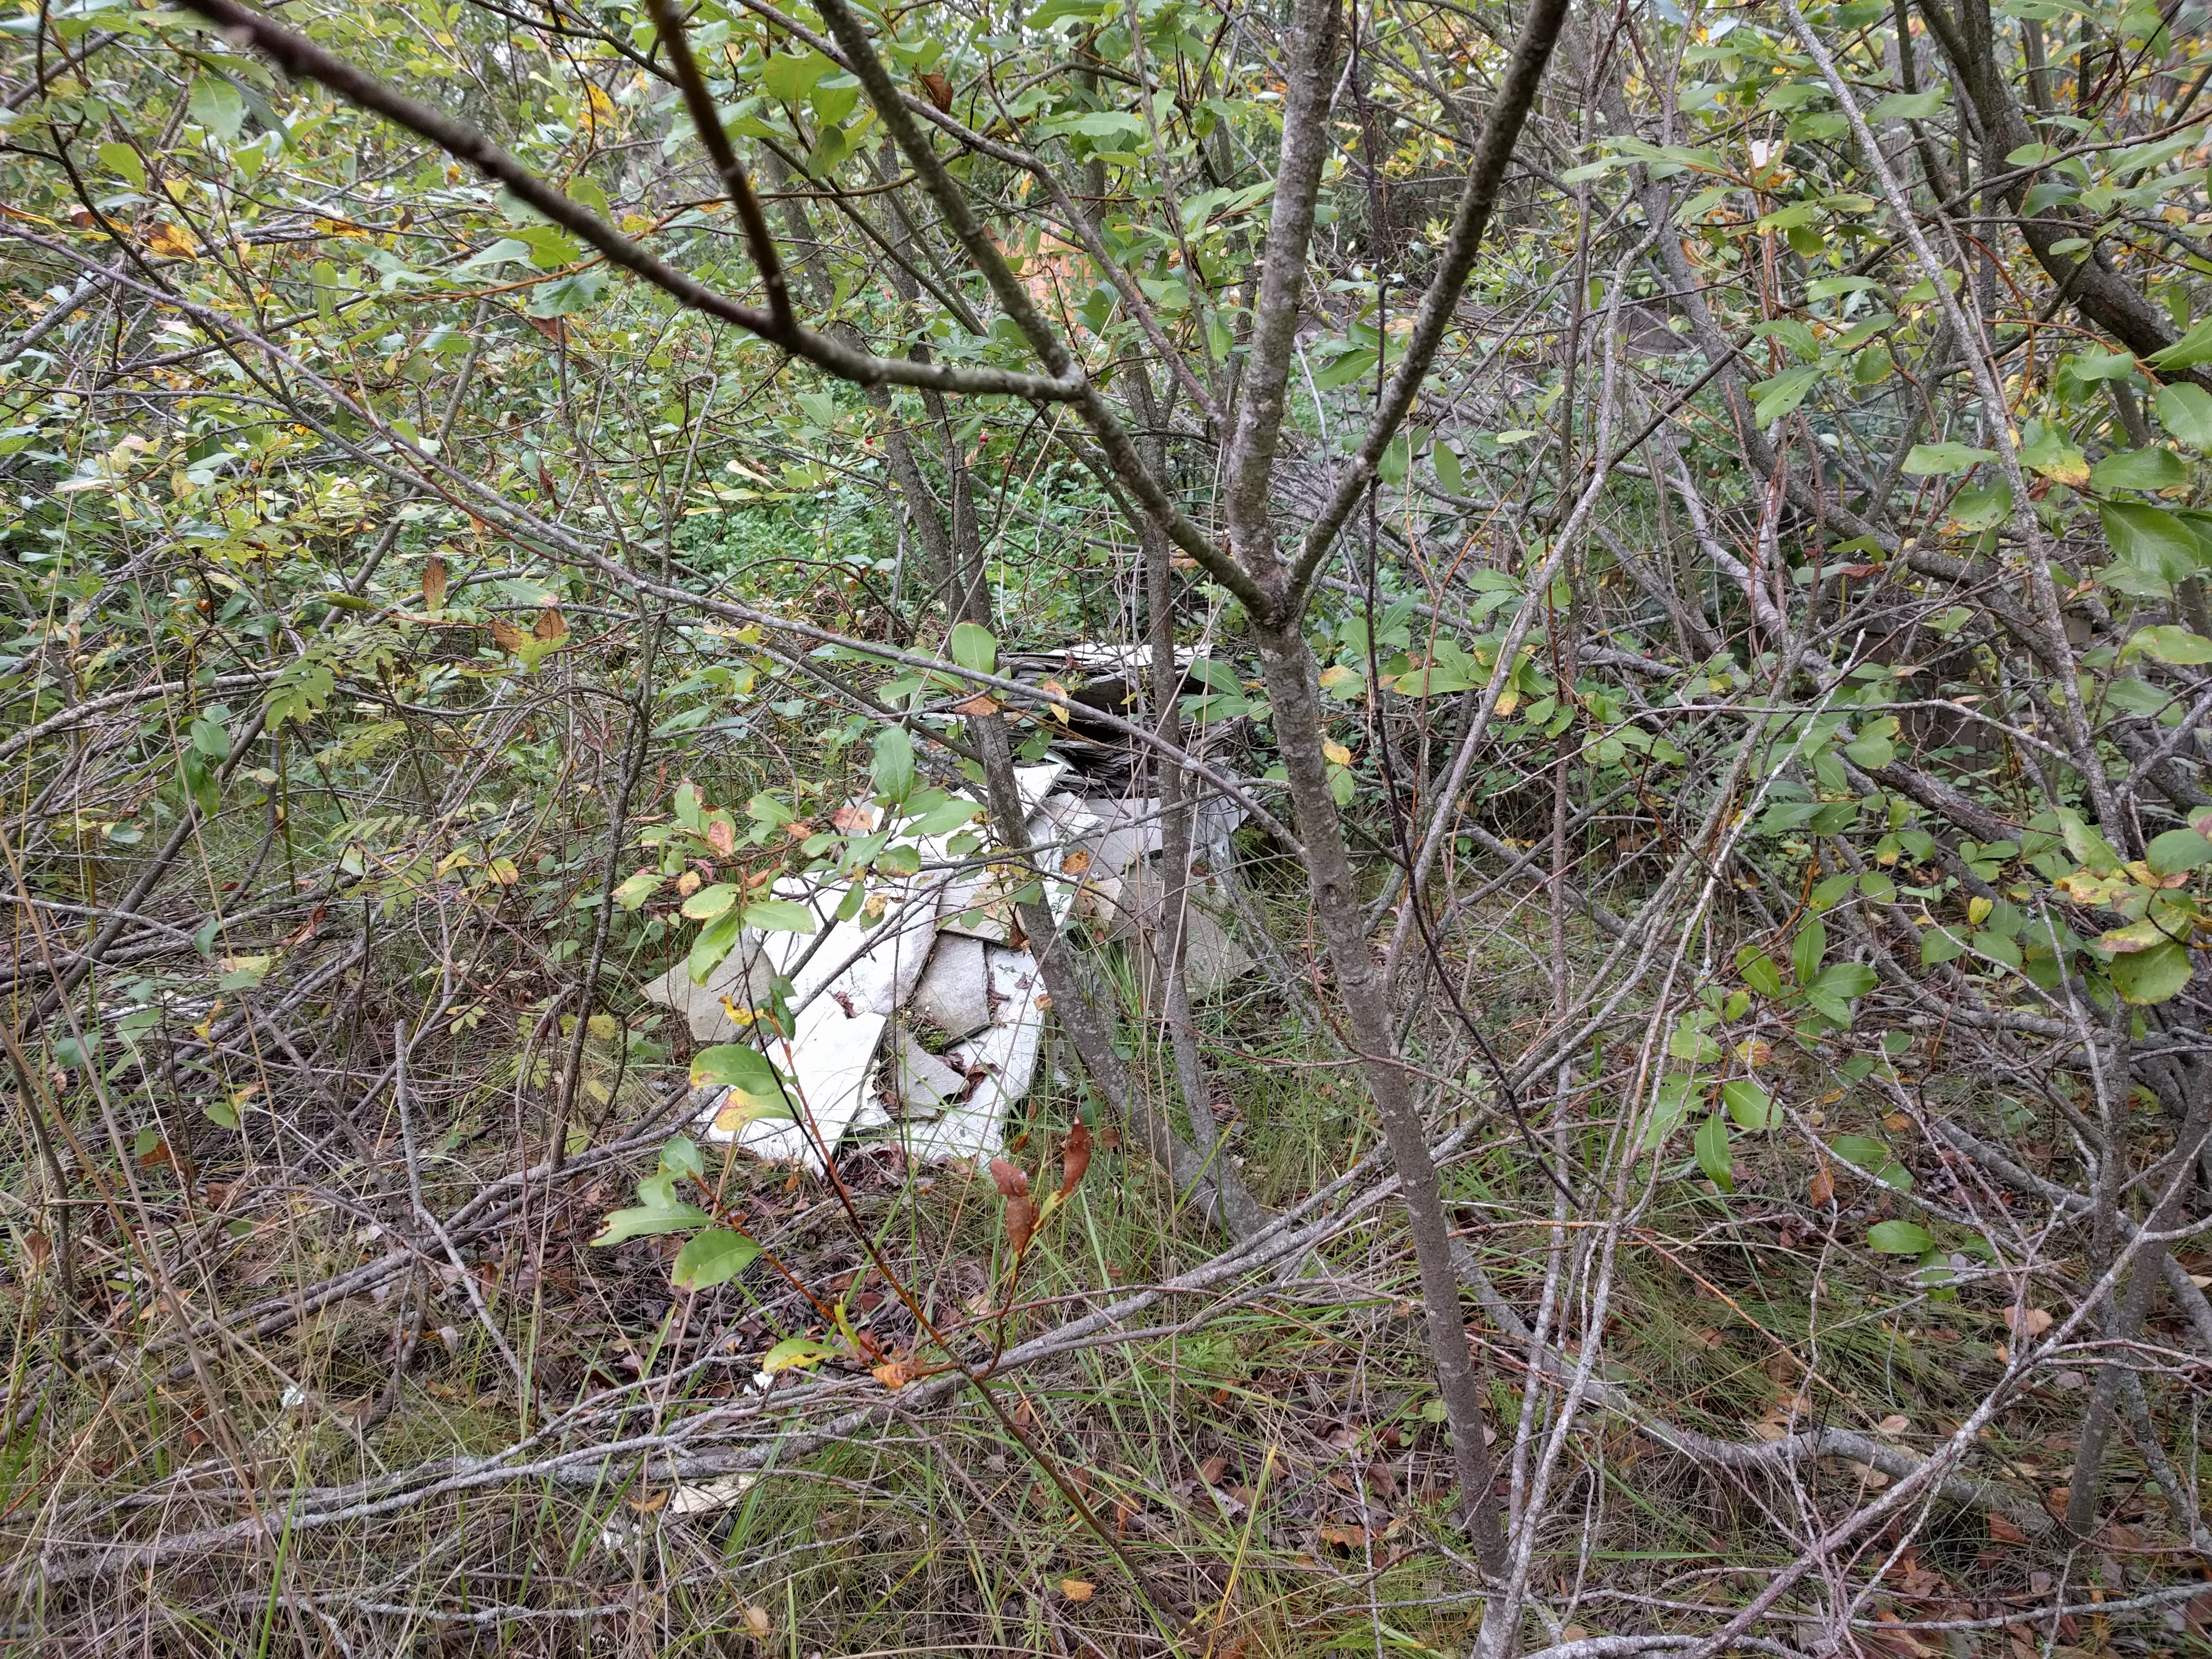trash: (629, 605, 1299, 1176)
